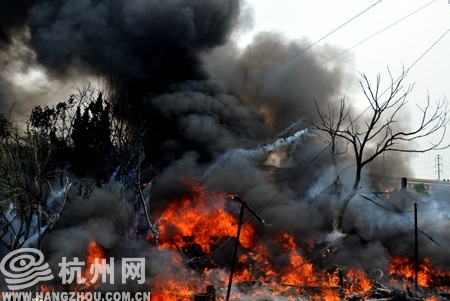fire: (147, 184, 413, 301), (72, 241, 105, 292)
